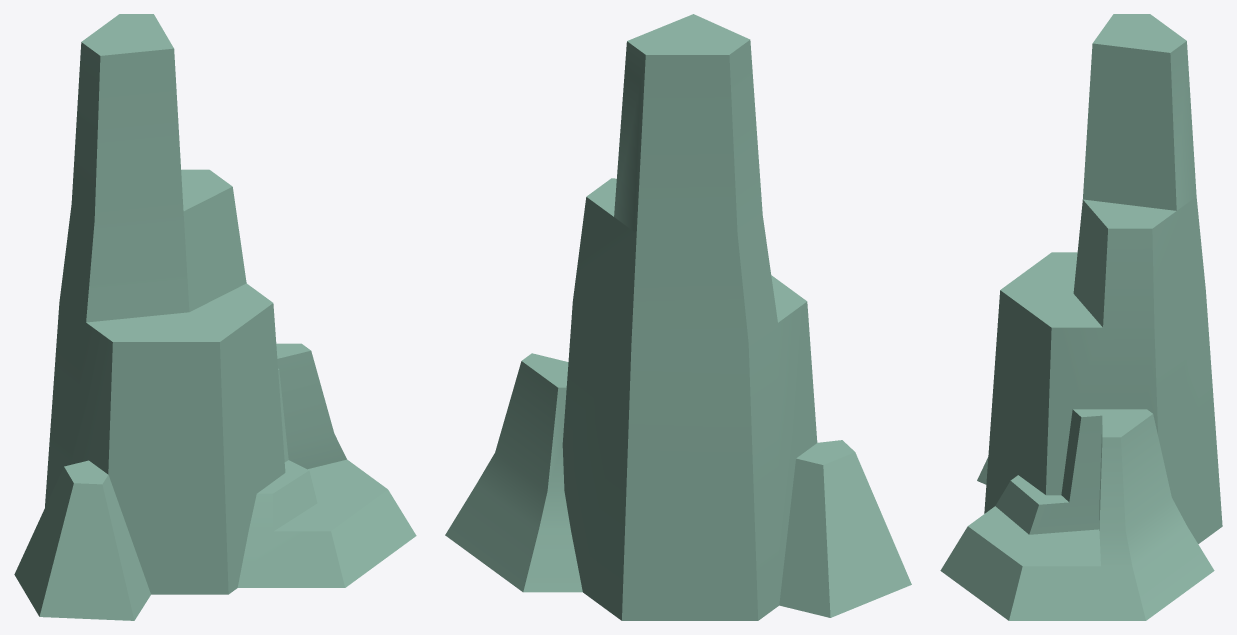
Rendered from naturePack_083.fbx.
3 views of the same model, side by side, from view 1: azimuth 30°, elevation 25°; view 2: azimuth 150°, elevation 25°; view 3: azimuth 270°, elevation 25° (orthographic). The views are drawn at different scales.
Visible parts, largest first — view 1: naturePack_083; view 2: naturePack_083; view 3: naturePack_083.
Boxes of the visible parts, bbox=[...] form: naturePack_083: bbox=[14, 14, 416, 620]; naturePack_083: bbox=[445, 14, 911, 620]; naturePack_083: bbox=[940, 14, 1222, 620].
Bounding box in the file's own units: 272 × 358 × 189.
